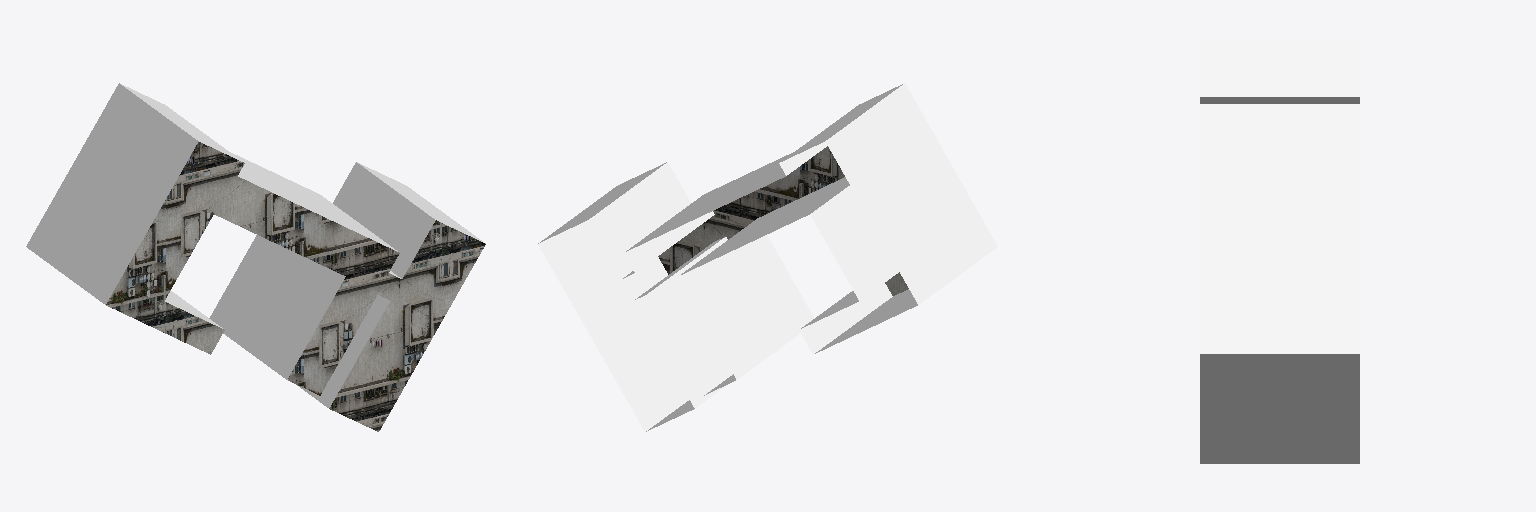
3 views of the same model, side by side, from view 1: azimuth 30°, elevation 25°; view 2: azimuth 150°, elevation 25°; view 3: azimuth 270°, elevation 25° (orthographic).
Parts seen in each view (by area): view 1: Building; view 2: Building; view 3: Building.
Part boxes in pixels (x1,y1,x2,y2): Building: (26,83,485,431); Building: (538,83,997,431); Building: (1200,41,1359,463).
Size of the model in its own units: 66.11 by 55.61 by 24.
2 materials, 1 textured.